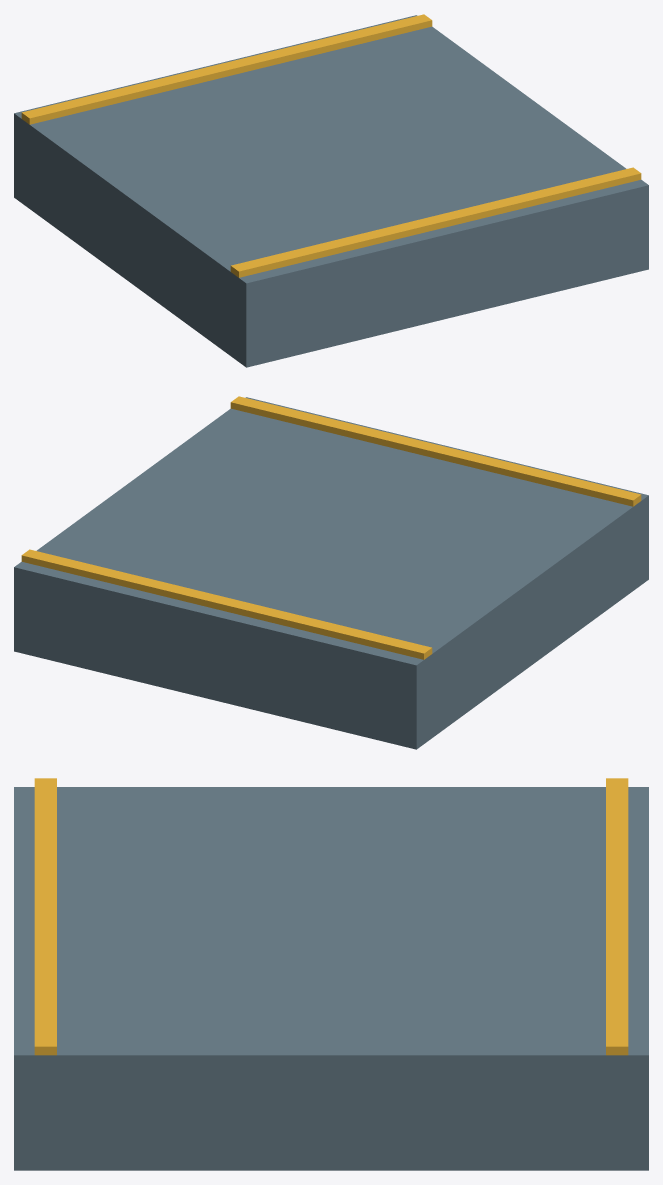
The model's file is connector_ramp.glb.
3 views of the same model, one above another, from view 1: azimuth 30°, elevation 25°; view 2: azimuth 150°, elevation 25°; view 3: azimuth 270°, elevation 25° (orthographic). The views are drawn at different scales.
Parts seen in each view (by area): view 1: RampDeck, SafetyStripe, SafetyStripe.001; view 2: RampDeck, SafetyStripe, SafetyStripe.001; view 3: RampDeck, SafetyStripe, SafetyStripe.001.
Part boxes in pixels (<box>): RampDeck: <box>14,15,648,367</box>; SafetyStripe: <box>21,14,432,124</box>; SafetyStripe.001: <box>230,167,641,277</box>; RampDeck: <box>14,397,648,749</box>; SafetyStripe: <box>21,549,432,659</box>; SafetyStripe.001: <box>230,396,641,506</box>; RampDeck: <box>14,787,648,1170</box>; SafetyStripe: <box>606,778,628,1055</box>; SafetyStripe.001: <box>34,778,56,1055</box>.
Bounding box in the file's own units: 1 × 0.215 × 1.
